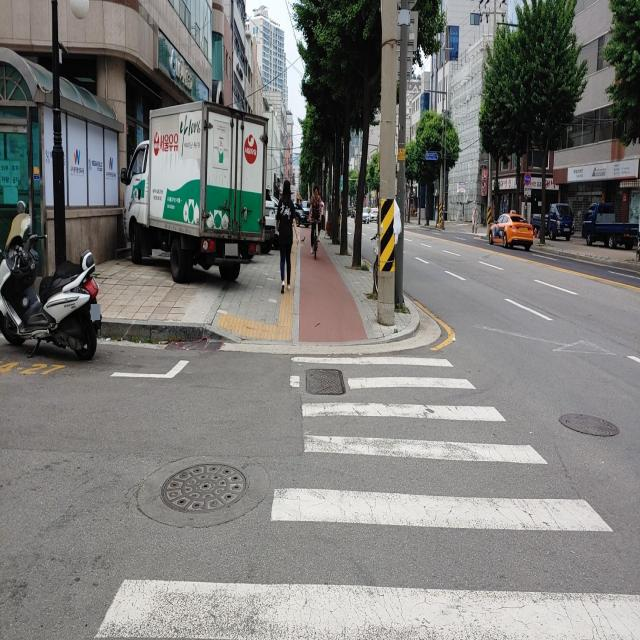횡단보도: (94, 354, 640, 640)
